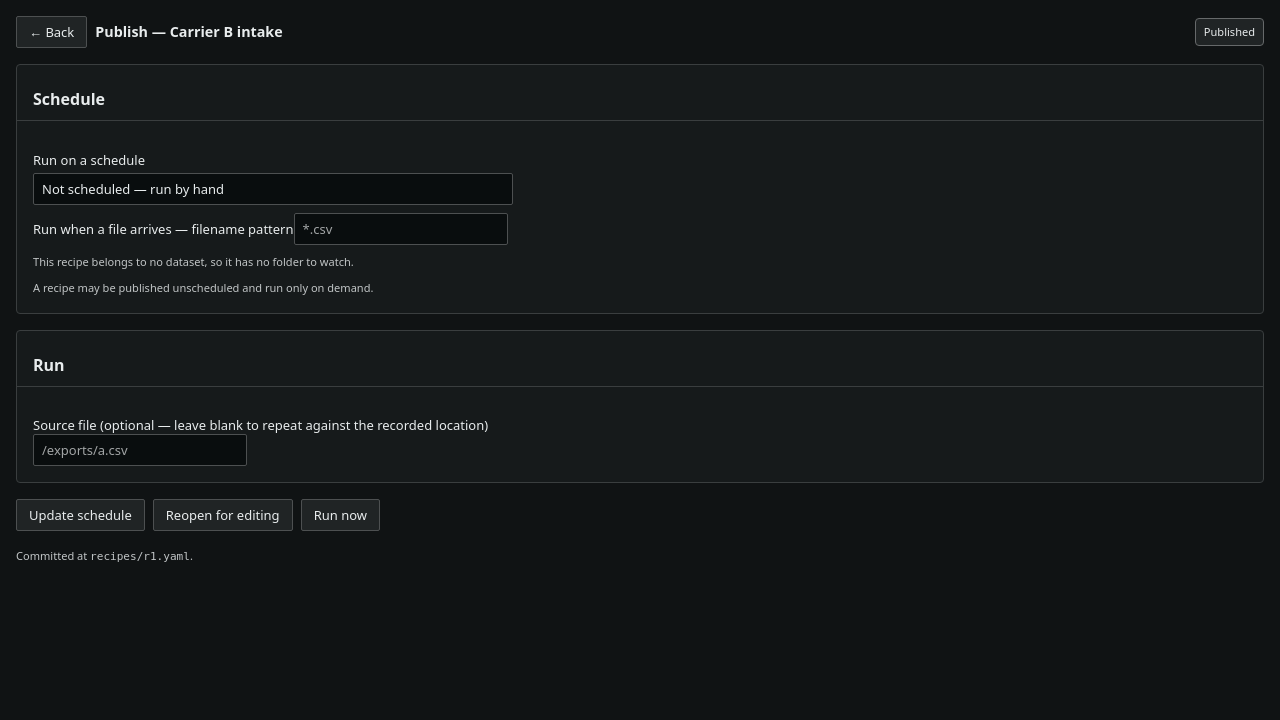
Publish: a run into a case that already holds its rows › reads a changed deduplicate key as the words the server gave, with the count and no id
The image size is (1280, 720).
Click the button "Run now".
click(340, 515)  # box [301, 499, 380, 531]
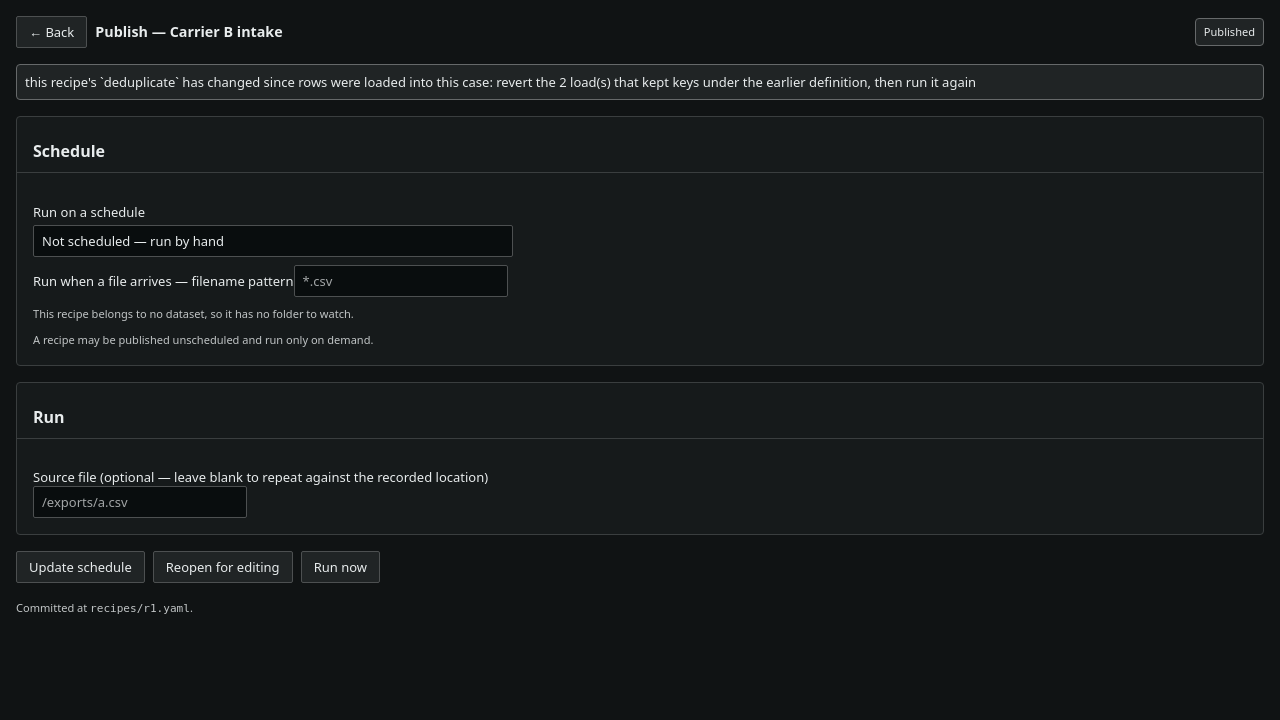
Expected: the message shows "revert the 2 load(s)", [25, 73, 976, 91]
Expected: the message shows "then run it again", [25, 73, 976, 91]
